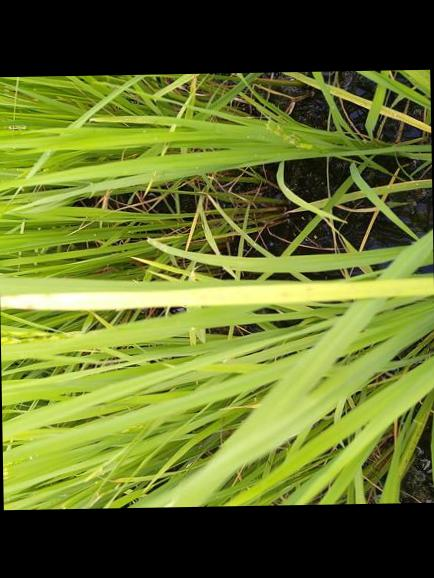Leaf Blight: (0, 276, 434, 308)
